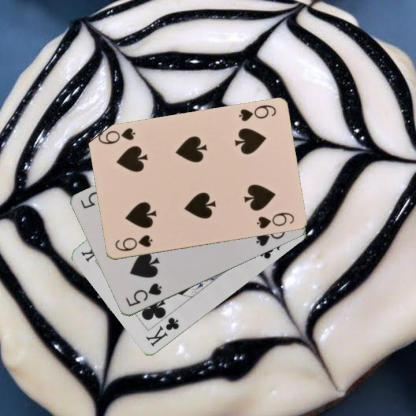5s: (122, 281, 163, 308)
6s: (112, 232, 154, 253), (236, 102, 277, 123)
Kc: (143, 315, 181, 348)
